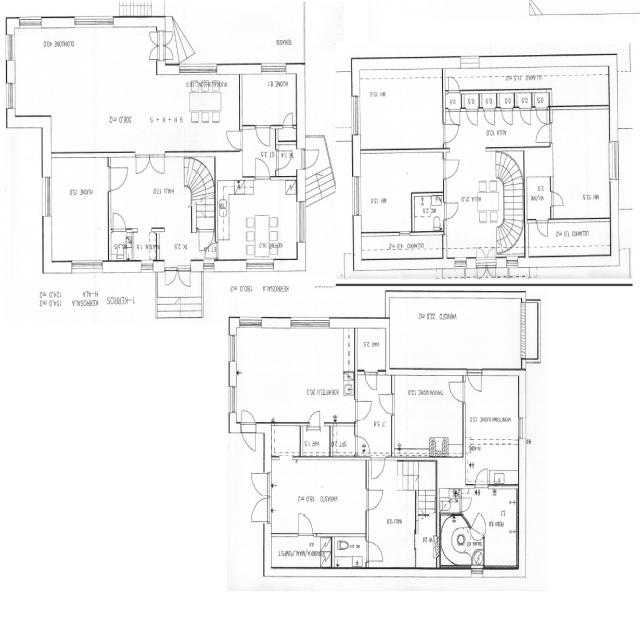door: (249, 469, 271, 512), (240, 406, 257, 450), (134, 152, 165, 176), (248, 490, 270, 523), (107, 164, 129, 191), (301, 142, 322, 169), (197, 228, 216, 256), (364, 486, 384, 511), (296, 511, 316, 536), (364, 539, 384, 563), (441, 156, 461, 179), (447, 378, 466, 402), (224, 126, 243, 150), (255, 124, 274, 148), (354, 398, 373, 422), (444, 80, 463, 104), (466, 367, 483, 393), (463, 89, 480, 115), (441, 121, 460, 144), (253, 156, 271, 180), (276, 147, 294, 171), (369, 455, 386, 480), (534, 121, 553, 143), (110, 209, 128, 232), (378, 392, 396, 415), (242, 427, 258, 451), (364, 368, 379, 392), (442, 200, 460, 220), (548, 188, 566, 208), (146, 42, 164, 62), (177, 266, 193, 288), (163, 266, 180, 286), (534, 217, 550, 238), (472, 510, 486, 534), (355, 433, 371, 454), (465, 106, 480, 128), (500, 105, 515, 127), (474, 466, 490, 486), (446, 74, 462, 94), (306, 407, 322, 427), (446, 105, 462, 125), (161, 42, 177, 62), (161, 27, 177, 46), (459, 494, 474, 513), (482, 106, 496, 126), (535, 105, 549, 125), (519, 106, 532, 126), (148, 28, 162, 46), (398, 215, 411, 234), (281, 111, 295, 127)
window: (520, 295, 536, 362), (72, 12, 116, 27), (40, 172, 53, 220), (349, 91, 362, 138), (518, 300, 528, 361), (606, 136, 619, 182), (349, 173, 362, 219), (295, 198, 307, 245), (554, 102, 608, 112), (69, 258, 104, 272), (245, 257, 275, 271), (180, 62, 218, 73), (4, 78, 16, 111), (19, 13, 43, 27), (4, 32, 15, 62), (238, 314, 263, 327), (260, 61, 289, 72), (506, 252, 522, 264), (470, 564, 486, 575), (139, 258, 155, 268), (202, 258, 217, 268)
zone: (11, 15, 168, 154), (235, 324, 355, 421), (390, 296, 527, 368), (354, 65, 444, 151), (269, 459, 369, 534), (355, 149, 443, 232), (46, 154, 110, 266), (550, 104, 611, 220), (218, 180, 300, 263), (464, 370, 520, 484), (391, 373, 465, 459), (170, 70, 240, 150), (238, 67, 301, 126), (481, 487, 518, 569), (356, 374, 393, 456), (267, 534, 327, 569), (439, 519, 483, 566), (156, 230, 210, 266), (415, 498, 438, 568), (356, 322, 388, 372), (110, 228, 158, 260), (411, 192, 445, 232), (525, 174, 552, 221), (332, 535, 368, 567), (330, 421, 357, 458), (300, 424, 330, 457), (134, 151, 165, 175), (108, 229, 130, 260), (438, 486, 461, 514), (276, 125, 296, 148), (461, 90, 480, 109), (444, 90, 462, 109)
